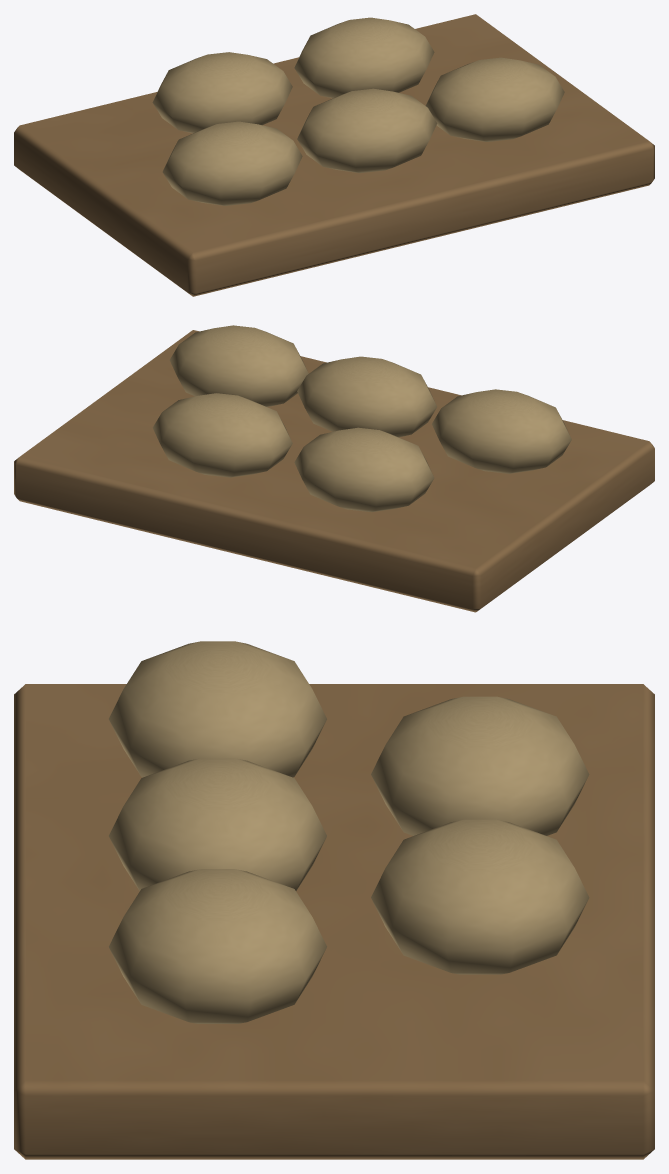
The model's file is s12-tablett.glb.
3 renders of one model, top to bottom at view 1: azimuth 30°, elevation 25°; view 2: azimuth 150°, elevation 25°; view 3: azimuth 270°, elevation 25°, orthographic. The views are drawn at different scales.
Parts seen in each view (by area): view 1: s12-tablett; view 2: s12-tablett; view 3: s12-tablett.
Boxes of the visible parts, x1,y1,x2,y2 form: s12-tablett: (14,14,654,296); s12-tablett: (14,325,654,612); s12-tablett: (14,641,654,1159).
Size of the model in its own units: 0.66 by 0.14 by 0.44.
1 material, 1 textured.
